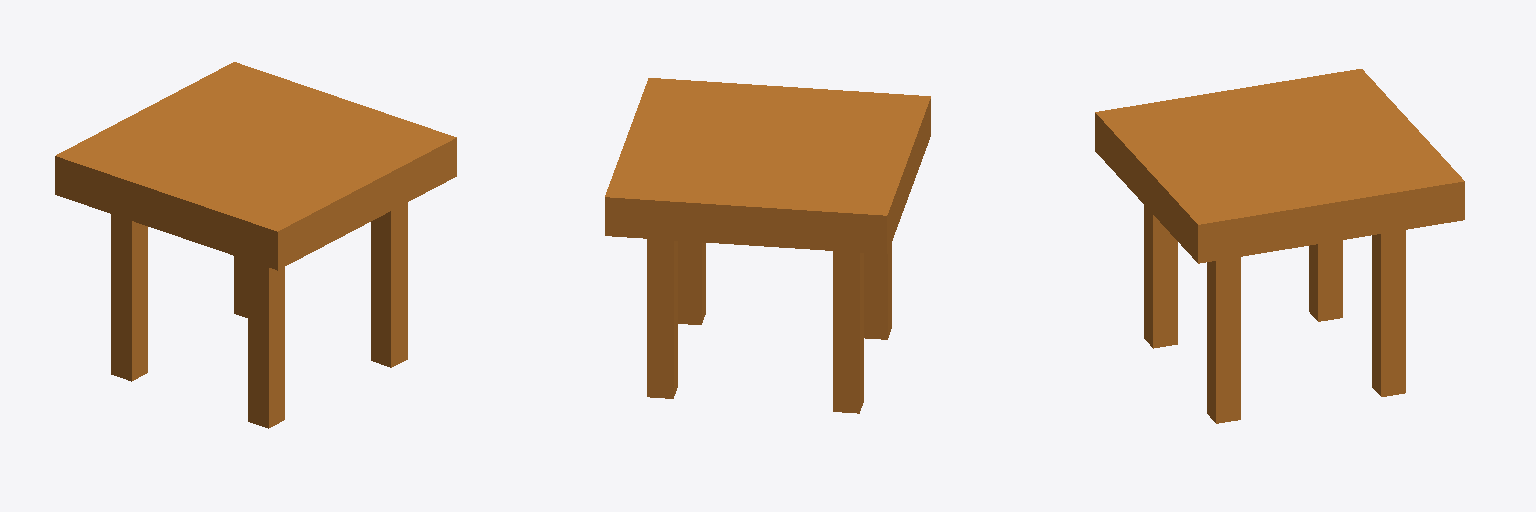
Rendered from SmallTable.obj.
The picture shows the model from 3 angles: view 1: azimuth 30°, elevation 25°; view 2: azimuth 150°, elevation 25°; view 3: azimuth 270°, elevation 25°; orthographic projection.
Parts seen in each view (by area): view 1: Plane.008_Plane.133; view 2: Plane.008_Plane.133; view 3: Plane.008_Plane.133.
Part boxes in pixels (left/top/right/bottom): Plane.008_Plane.133: left=55, top=62, right=456, bottom=428; Plane.008_Plane.133: left=605, top=78, right=930, bottom=413; Plane.008_Plane.133: left=1095, top=69, right=1464, bottom=423.
Bounding box in the file's own units: 1.29 × 0.8428 × 1.29.